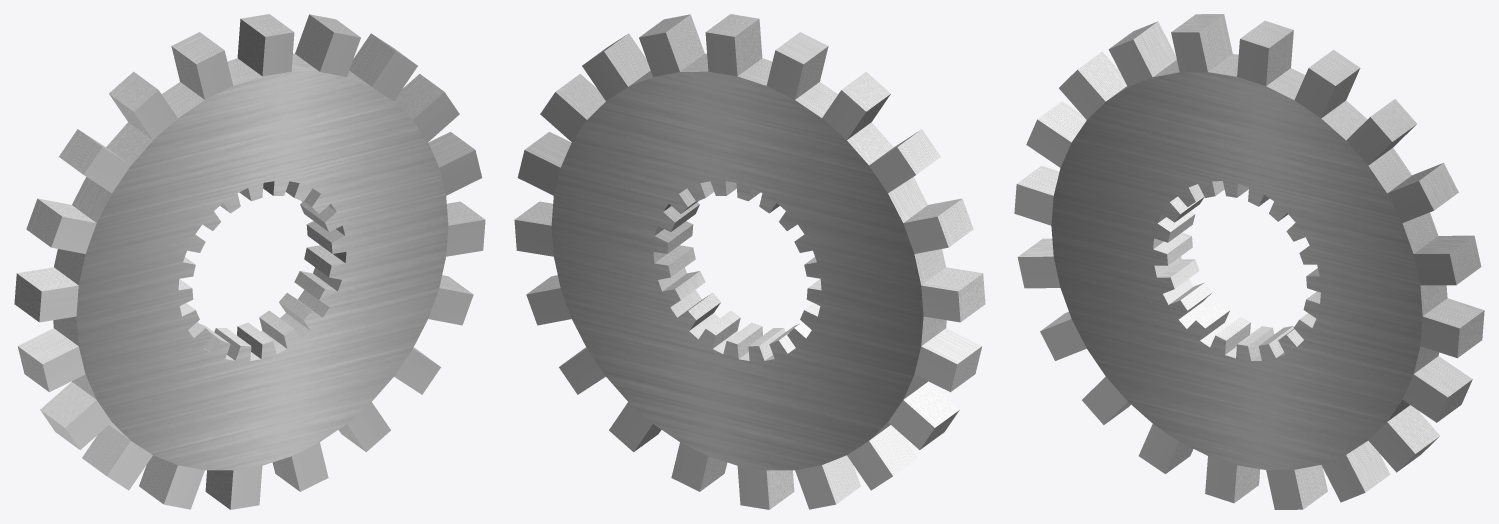
File: Gear.fbx
The picture shows the model from 3 angles, left to right: view 1: azimuth 30°, elevation 25°; view 2: azimuth 150°, elevation 25°; view 3: azimuth 330°, elevation 25°; orthographic projection.
Parts seen in each view (by area): view 1: Gear; view 2: Gear; view 3: Gear.
Part boxes in pixels (left/top/right/bottom): Gear: left=14, top=14, right=485, bottom=509; Gear: left=514, top=14, right=985, bottom=509; Gear: left=1014, top=14, right=1484, bottom=509.
Size of the model in its own units: 2.4 by 2.4 by 0.2322.
Materials: 1 (1 with a texture image).
